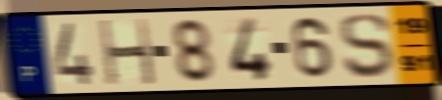4: (227, 15, 273, 84), (54, 21, 95, 88)
6: (289, 14, 335, 81)
8: (170, 16, 216, 85)
H: (96, 17, 158, 88)
S: (337, 11, 394, 81)
